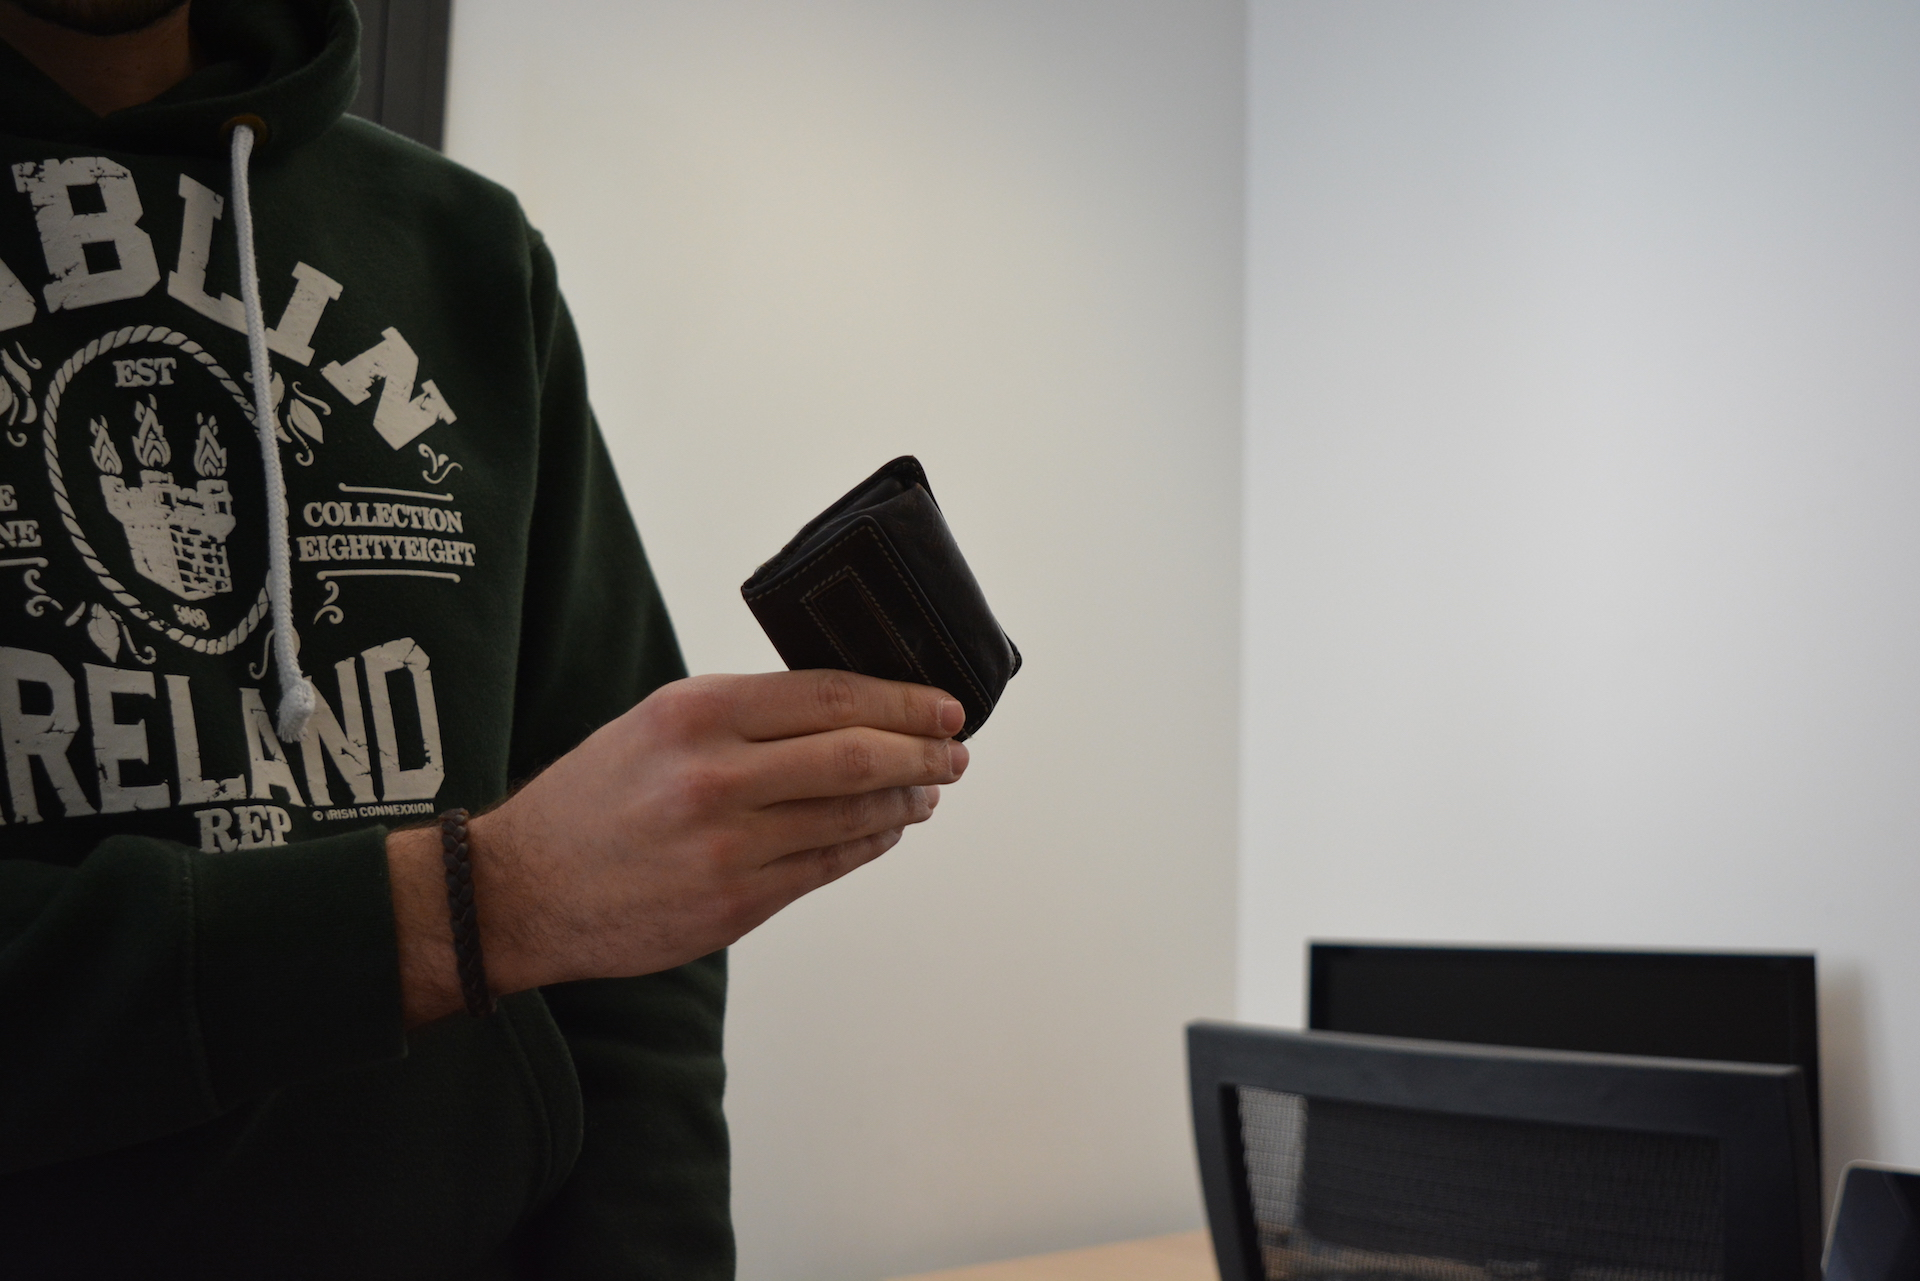monedero: (738, 452, 1025, 746)
